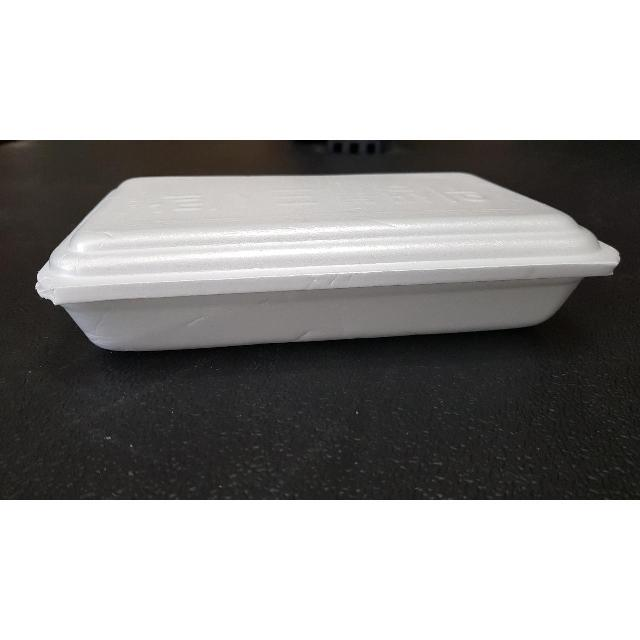Recipiente plastico: (36, 172, 619, 349)
